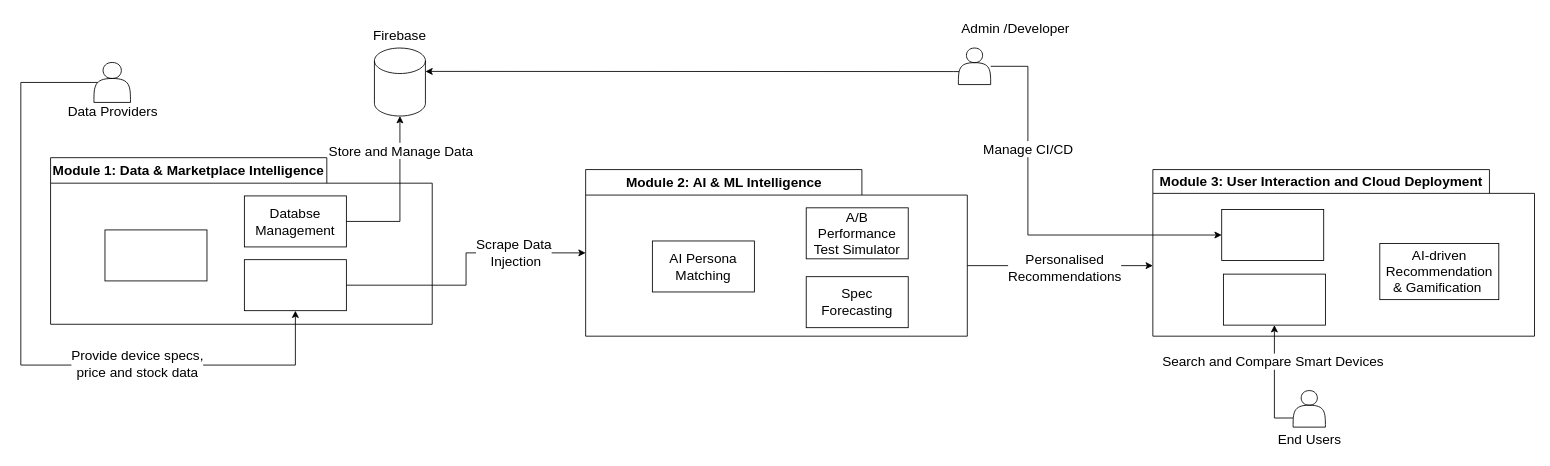
Some shapes in this 1550 by 466 pixel diagram are drawn without their labels. The centre of each missing label's shape, as x and y in pixels:
Cloud Hosting & CI/CD: the point at 1272,235
Frontend & User Interaction: the point at 1274,299
Review Sentiment Analysis: the point at 155,255
Web Scraping and Data Collection: the point at 295,285
